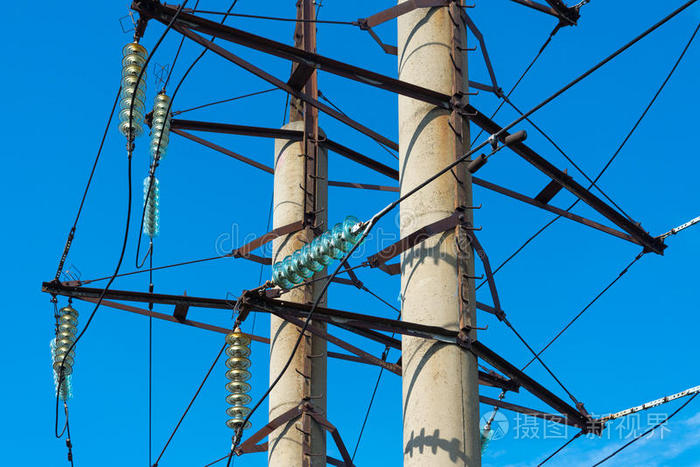insulator: (274, 216, 367, 292), (223, 331, 256, 427), (118, 43, 146, 135), (56, 304, 83, 372), (149, 94, 175, 158), (141, 174, 162, 240), (51, 340, 72, 400)
